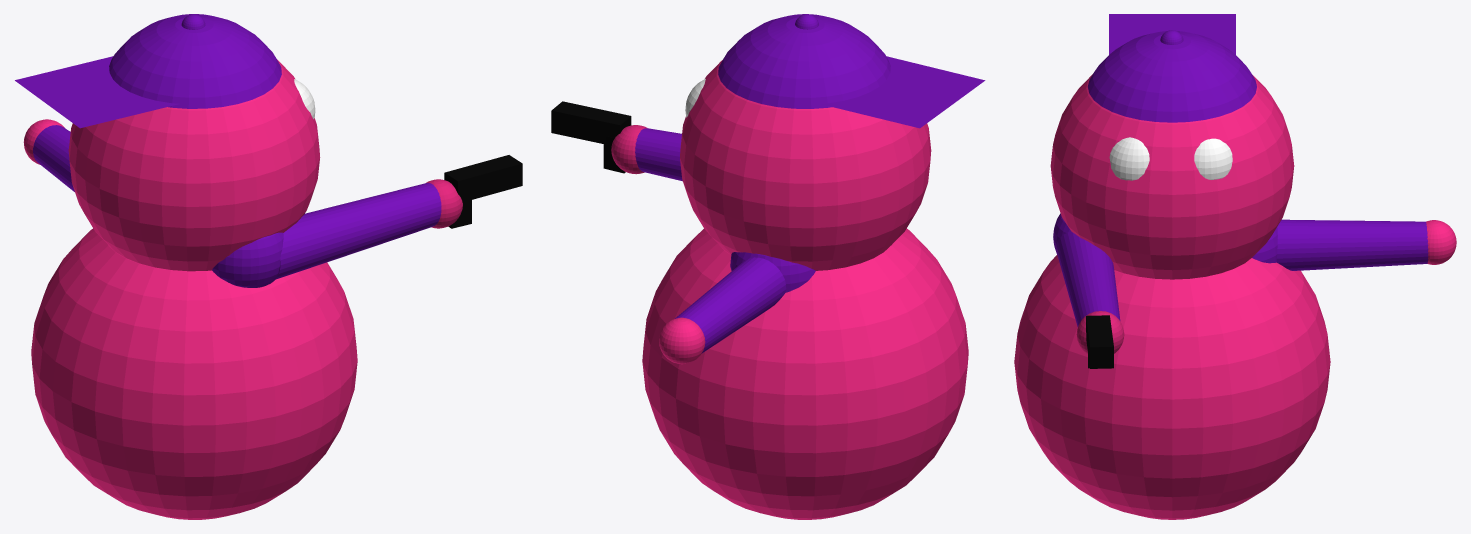
Rendered from dudeGun.fbx.
The picture shows the model from 3 angles, left to right: view 1: azimuth 30°, elevation 25°; view 2: azimuth 150°, elevation 25°; view 3: azimuth 270°, elevation 25°; orthographic projection. The views are drawn at different scales.
Parts seen in each view (by area): view 1: Cube; view 2: Cube; view 3: Cube.
Boxes of the visible parts, left/top/right/bottom form: Cube: left=15, top=14, right=522, bottom=519; Cube: left=551, top=14, right=985, bottom=519; Cube: left=1014, top=14, right=1456, bottom=519.
Size of the model in its own units: 372 by 403 by 341.
